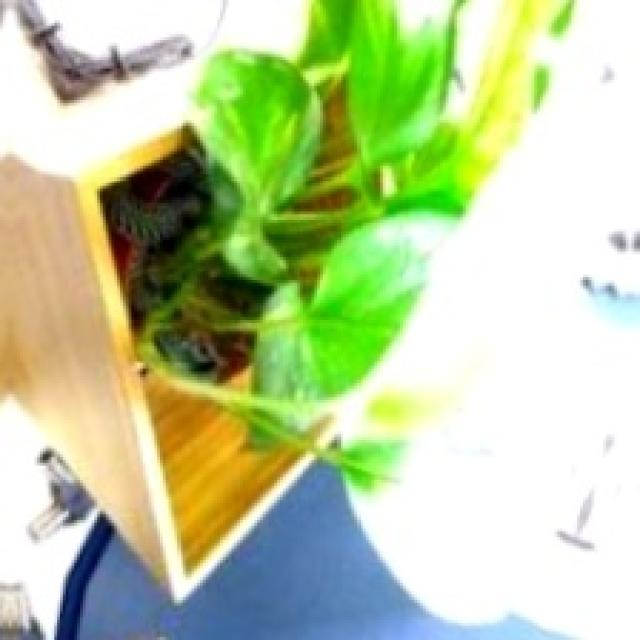paradise tree snake: (0, 0, 191, 100)
